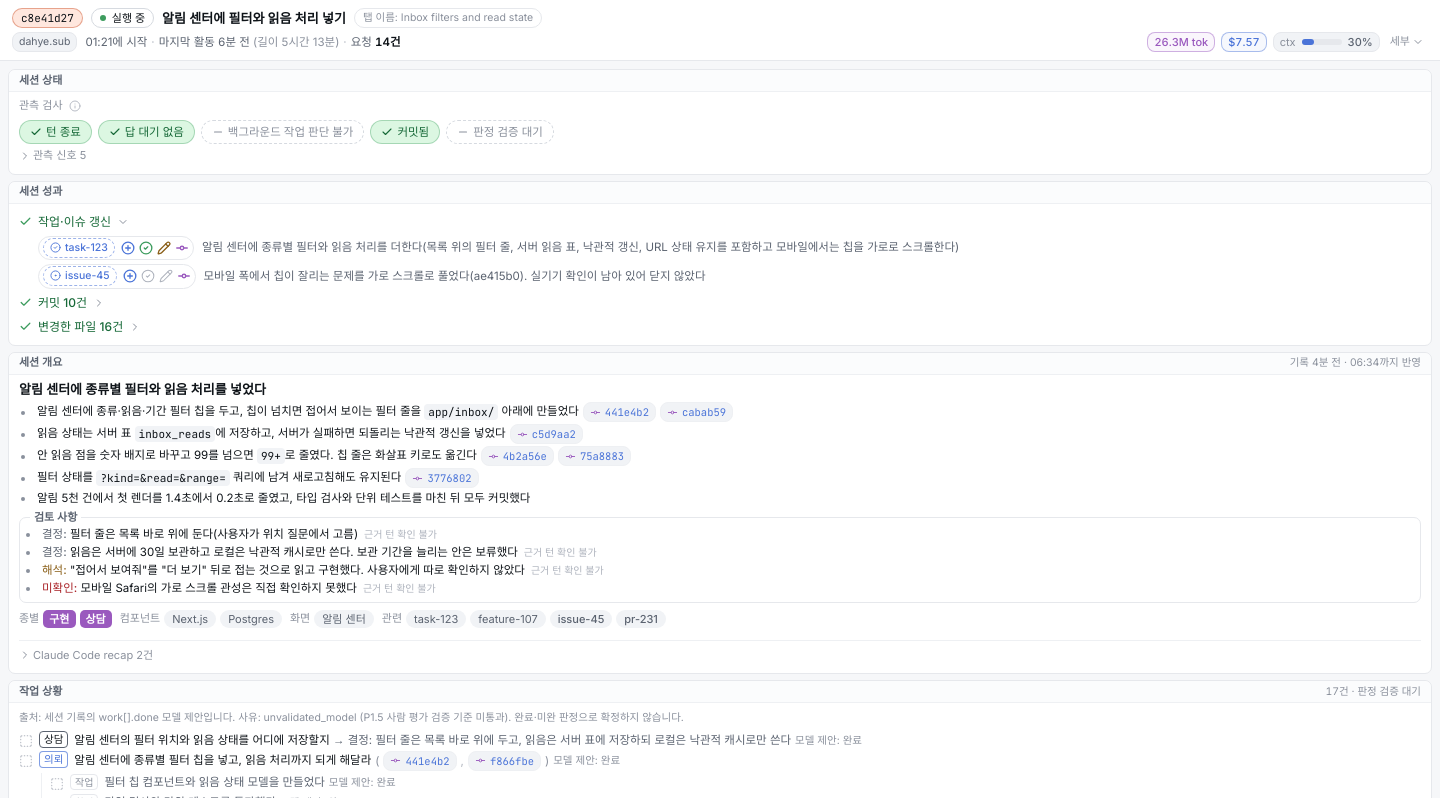
세션 성과: 세 줄을 펼치고 접는다 › 첫 줄만 펼쳐져 있고, 커밋과 변경한 파일은 눌러서 연다
Click the button "커밋 10건" at point(63, 302), box [19,293,1421,313]
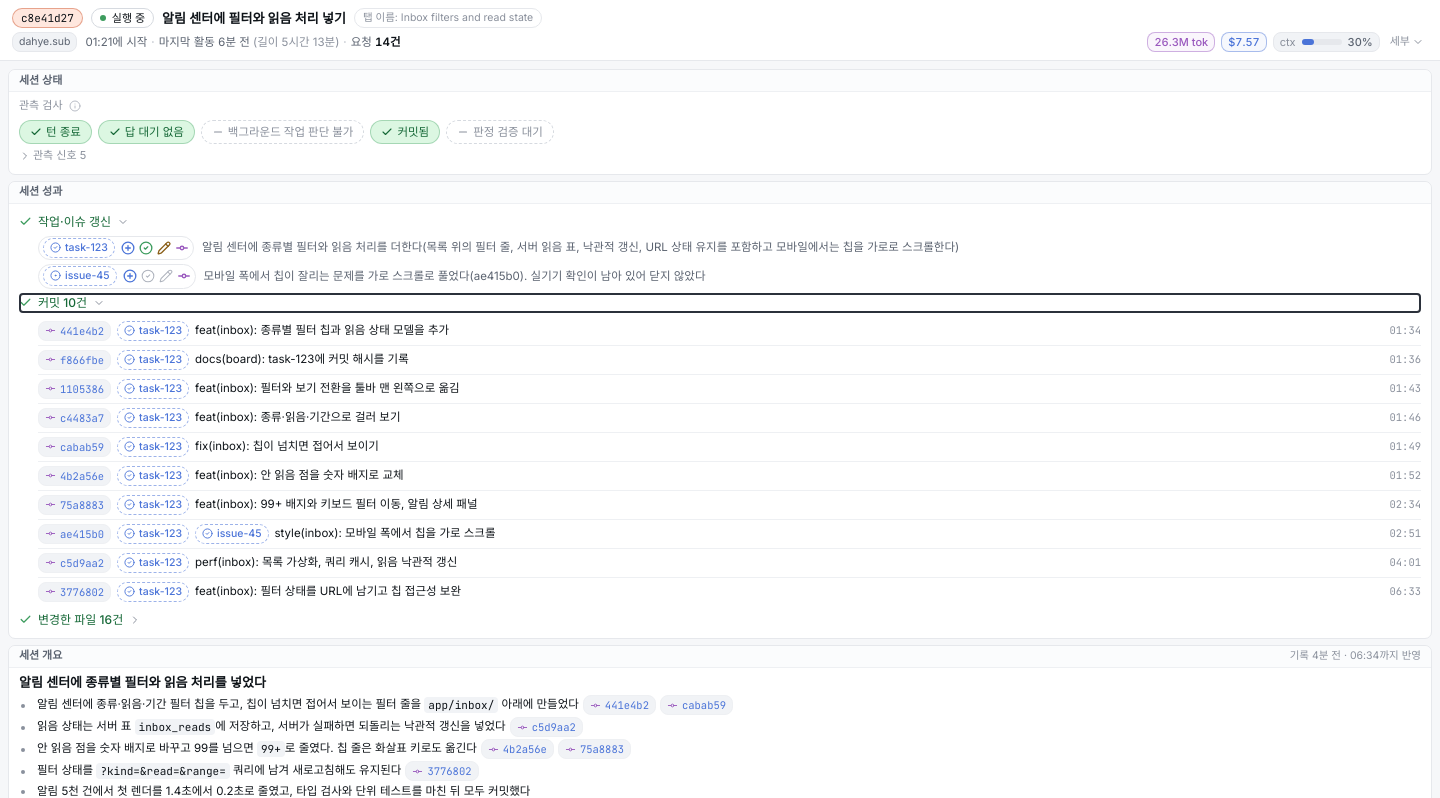
Check: the button "커밋 10건" is expanded, box [19,293,1421,313]
Check: the text "feat(inbox): 종류별 필터 칩과 읽음 상태 모델을 추가" is shown, box [195,323,449,337]
Check: the text "441e4b2" in the row of "01:34" is shown, box [60,324,104,338]
Click the button "변경한 파일 16건" at point(81, 619), box [19,610,1421,630]
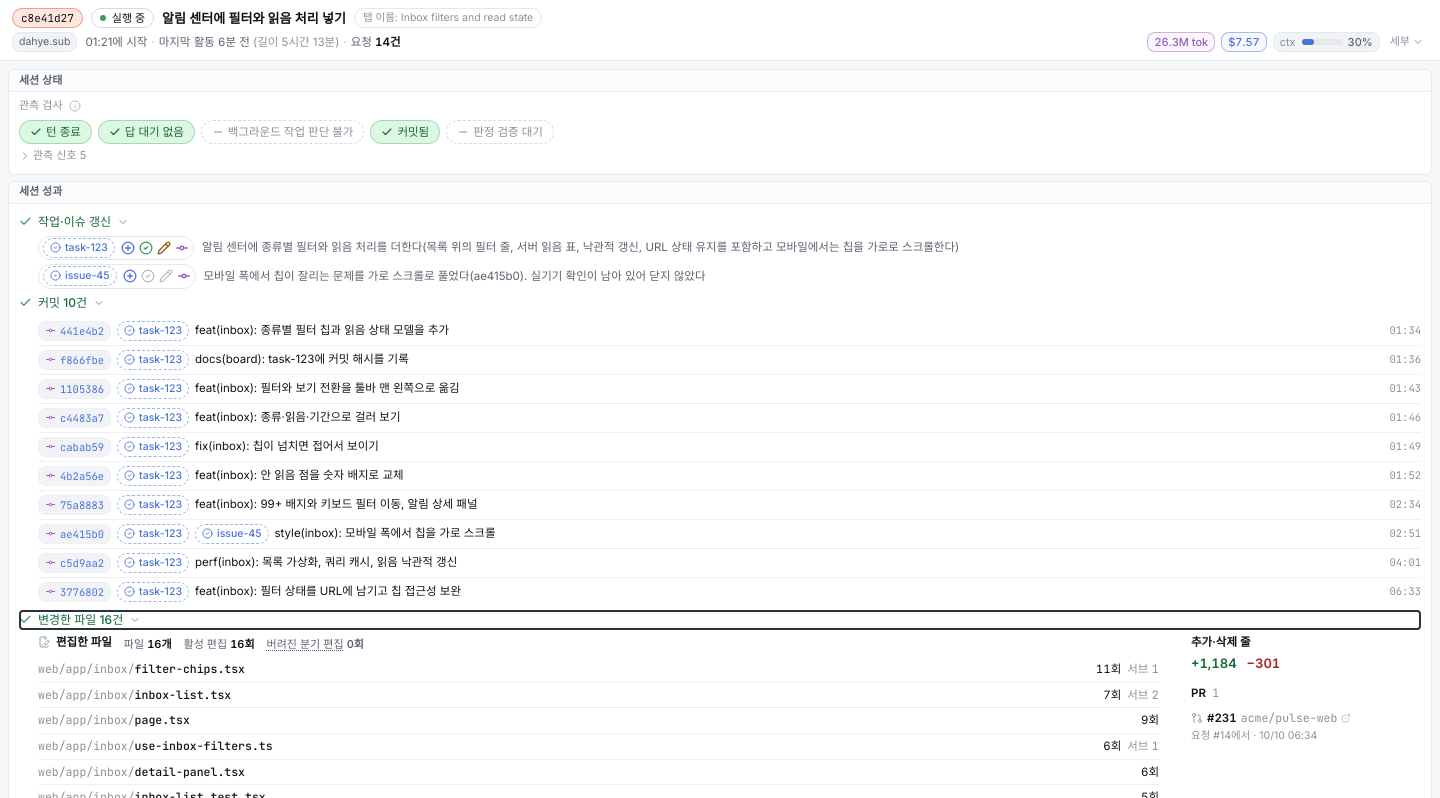
Check: the text "filter-chips.tsx" is shown, box [135,661,245,678]
Check: the text "+1,184" is shown, box [1191,654,1237,673]
Check: the text "−301" is shown, box [1247,654,1280,673]
Click the button "작업·이슈 갱신" at point(75, 221), box [19,212,1421,232]
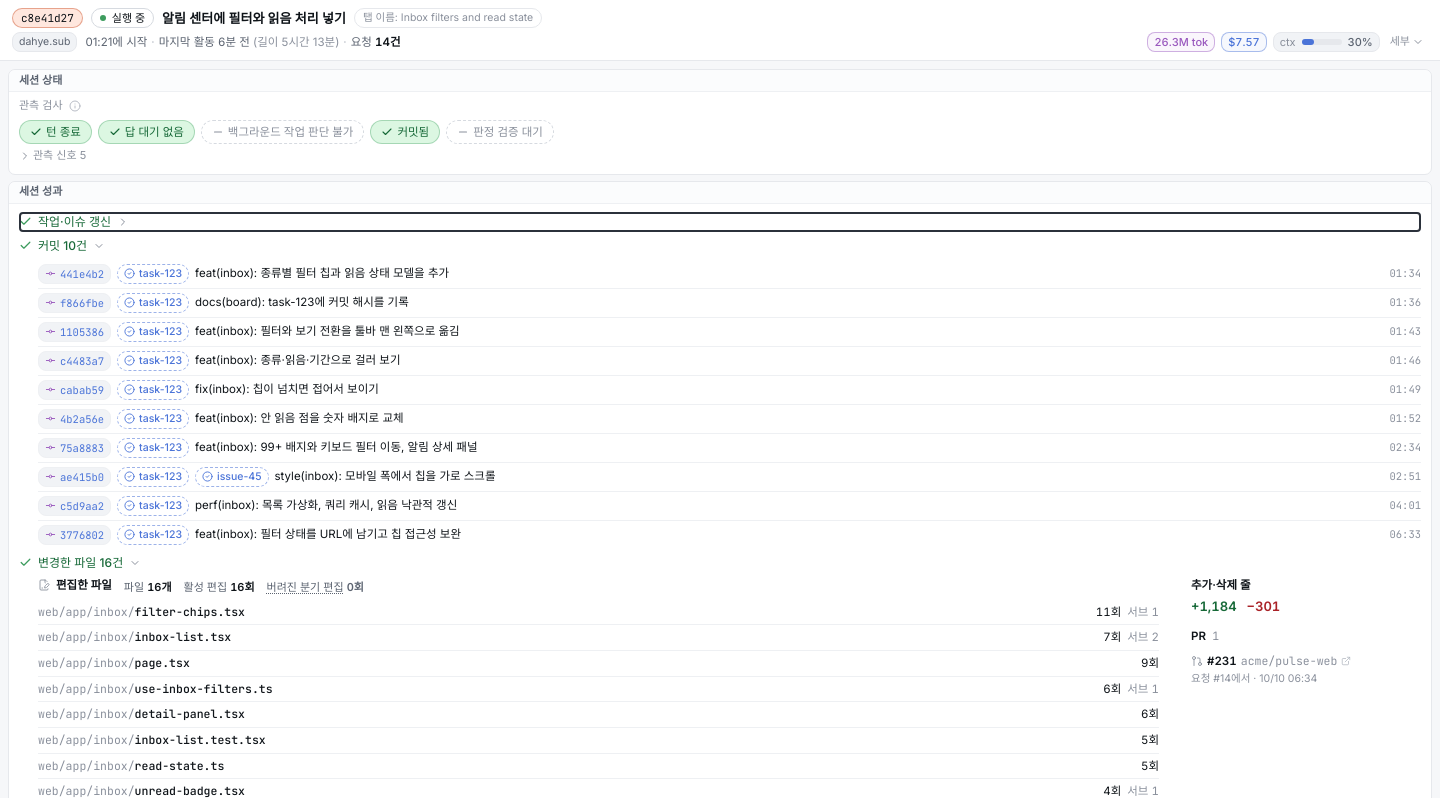
Check: the button "작업·이슈 갱신" is collapsed, box [19,212,1421,232]
